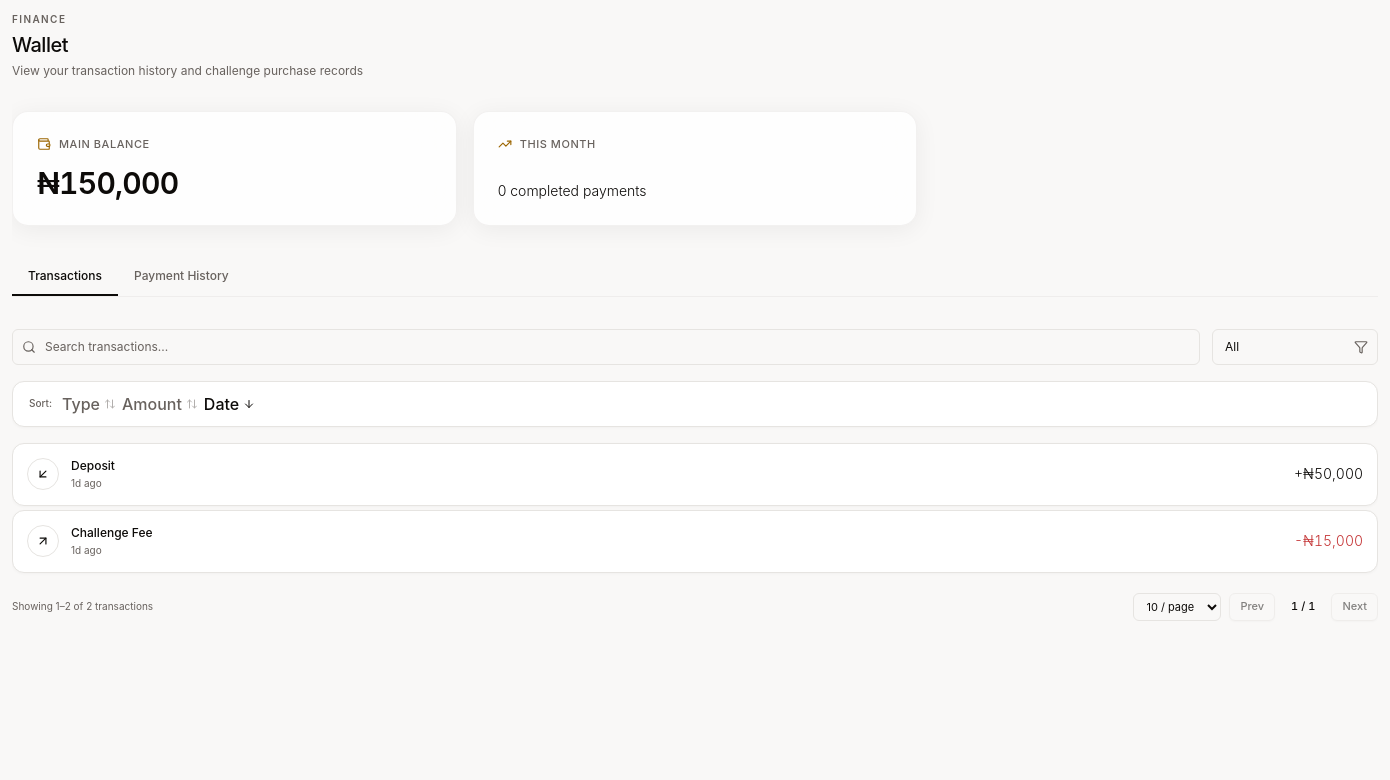
Test: Wallet Page › Transaction Filter › filters by purchases
Select "Challenge Purchases" in the dropdown showing "All" at [1295, 346], box [1212,328,1378,364]
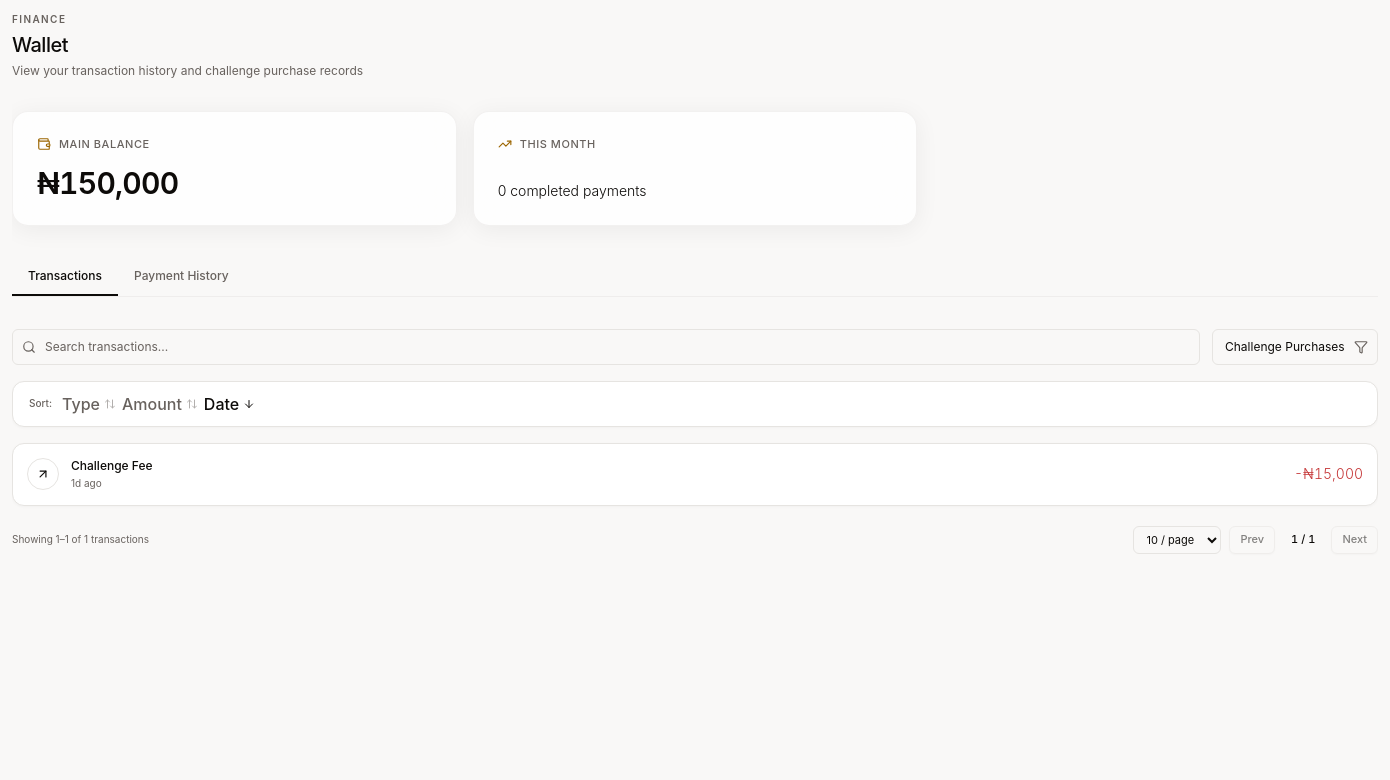
Check: the text "Challenge Fee" is shown, box [71,458,153,474]
Check: the text "Deposit" is gone
